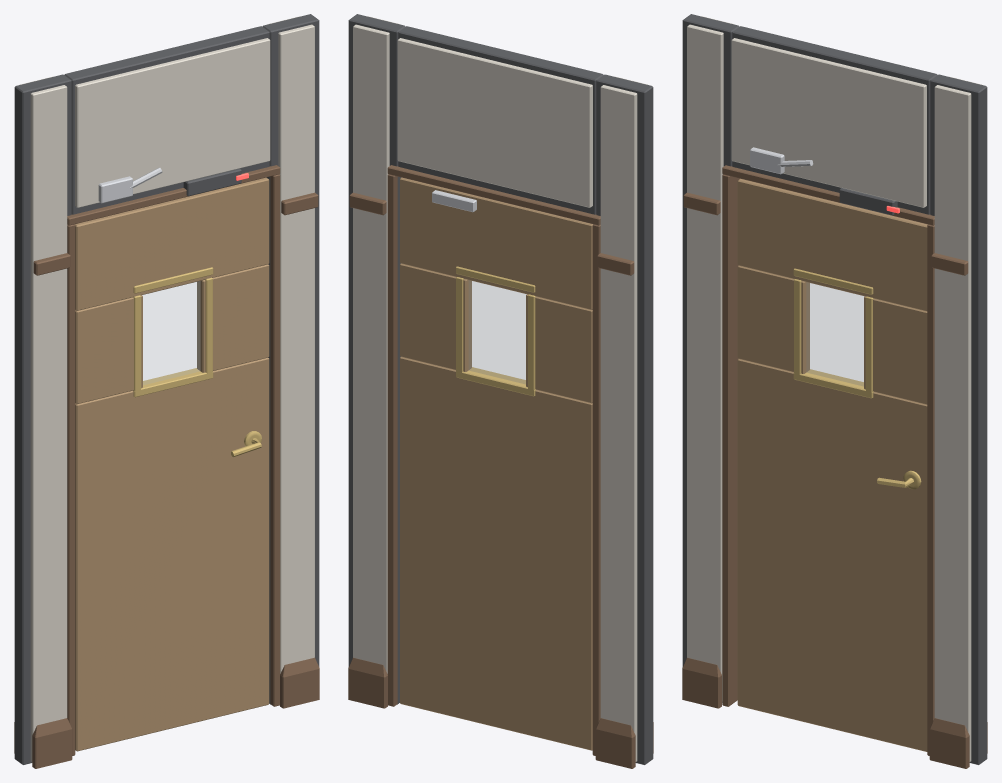
Rendered from escape-room-and-puzzle-venue-puzzle-room-door-module-3eac049f__35772.glb.
3 renders of one model, left to right at view 1: azimuth 30°, elevation 25°; view 2: azimuth 150°, elevation 25°; view 3: azimuth 330°, elevation 25°, orthographic.
Visible parts, largest first — view 1: puzzle-room-door-module, door/timber, door/glass, door/brass; view 2: puzzle-room-door-module, door/timber, door/glass, door/brass, door/metal; view 3: puzzle-room-door-module, door/timber, door/glass, door/brass.
Part boxes in pixels (left/top/right/bottom): puzzle-room-door-module: left=14, top=14, right=319, bottom=768; door/timber: left=75, top=177, right=269, bottom=751; door/glass: left=142, top=281, right=200, bottom=384; door/brass: left=133, top=267, right=261, bottom=456; puzzle-room-door-module: left=348, top=14, right=653, bottom=768; door/timber: left=400, top=177, right=592, bottom=750; door/glass: left=469, top=280, right=526, bottom=383; door/brass: left=456, top=266, right=535, bottom=396; door/metal: left=432, top=190, right=476, bottom=212; puzzle-room-door-module: left=682, top=14, right=987, bottom=768; door/timber: left=737, top=178, right=927, bottom=751; door/glass: left=806, top=282, right=863, bottom=386; door/brass: left=793, top=268, right=921, bottom=489.
Bounding box in the file's own units: 1.2 × 2.6 × 0.1631.
